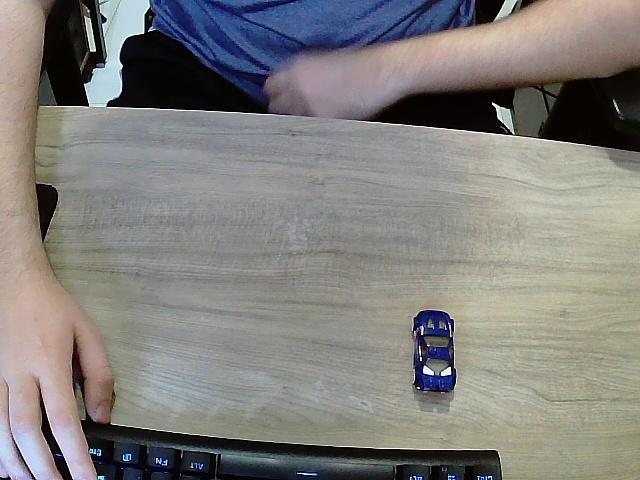Carro: (412, 311, 457, 394)
